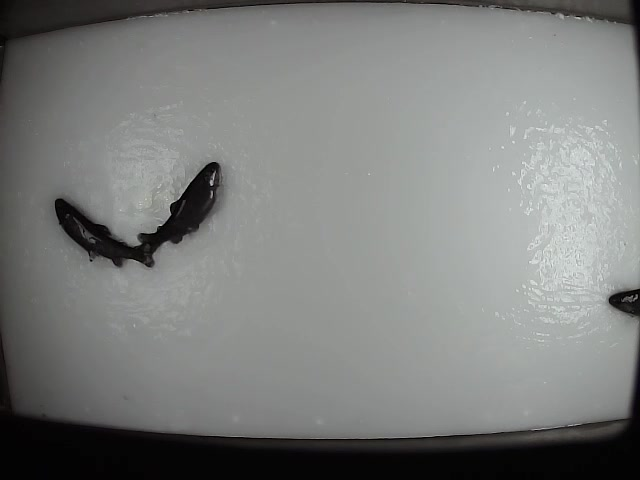fish: (135, 159, 222, 262), (52, 197, 155, 271)
